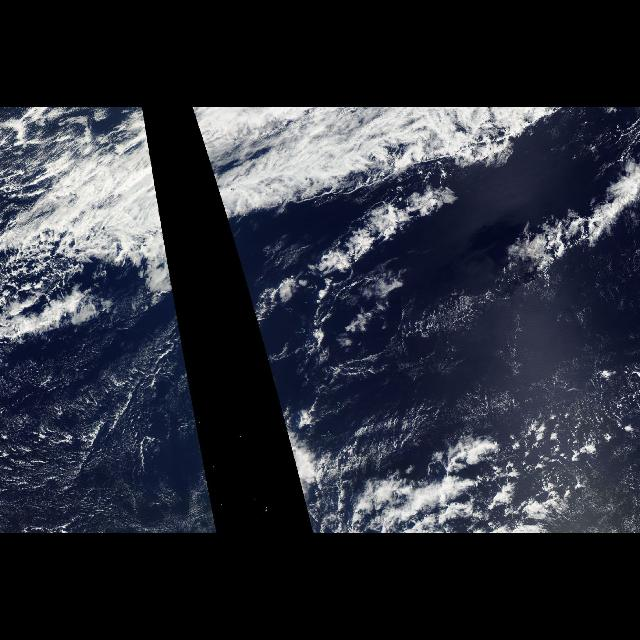Gravel: (271, 274, 639, 444)
Sugar: (3, 328, 219, 534)
